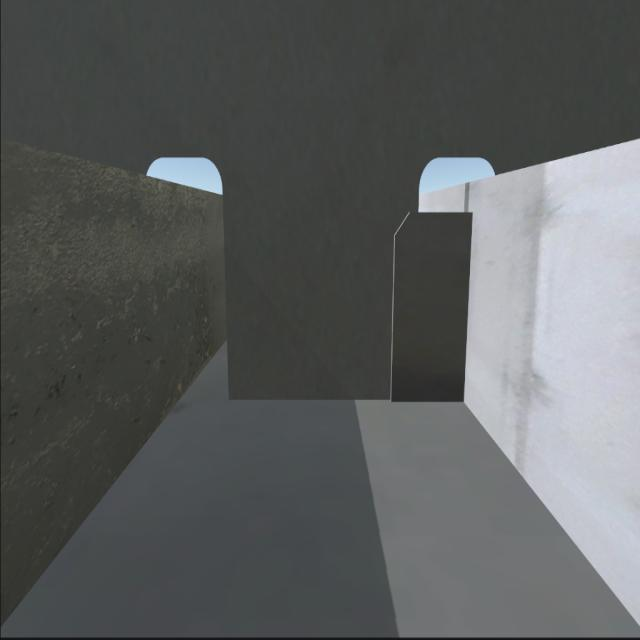fillet_yong_jeop_jang: (229, 388, 466, 419)
longi_yong_jeop_jang: (456, 209, 478, 398)
plate_CP03: (386, 202, 468, 404)
